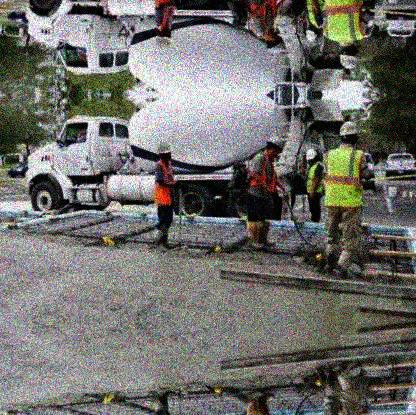helmet: (339, 44, 359, 70), (265, 31, 284, 57), (339, 120, 359, 144), (265, 135, 284, 158), (155, 28, 174, 51), (156, 140, 174, 162), (306, 148, 318, 162), (305, 28, 317, 41)
